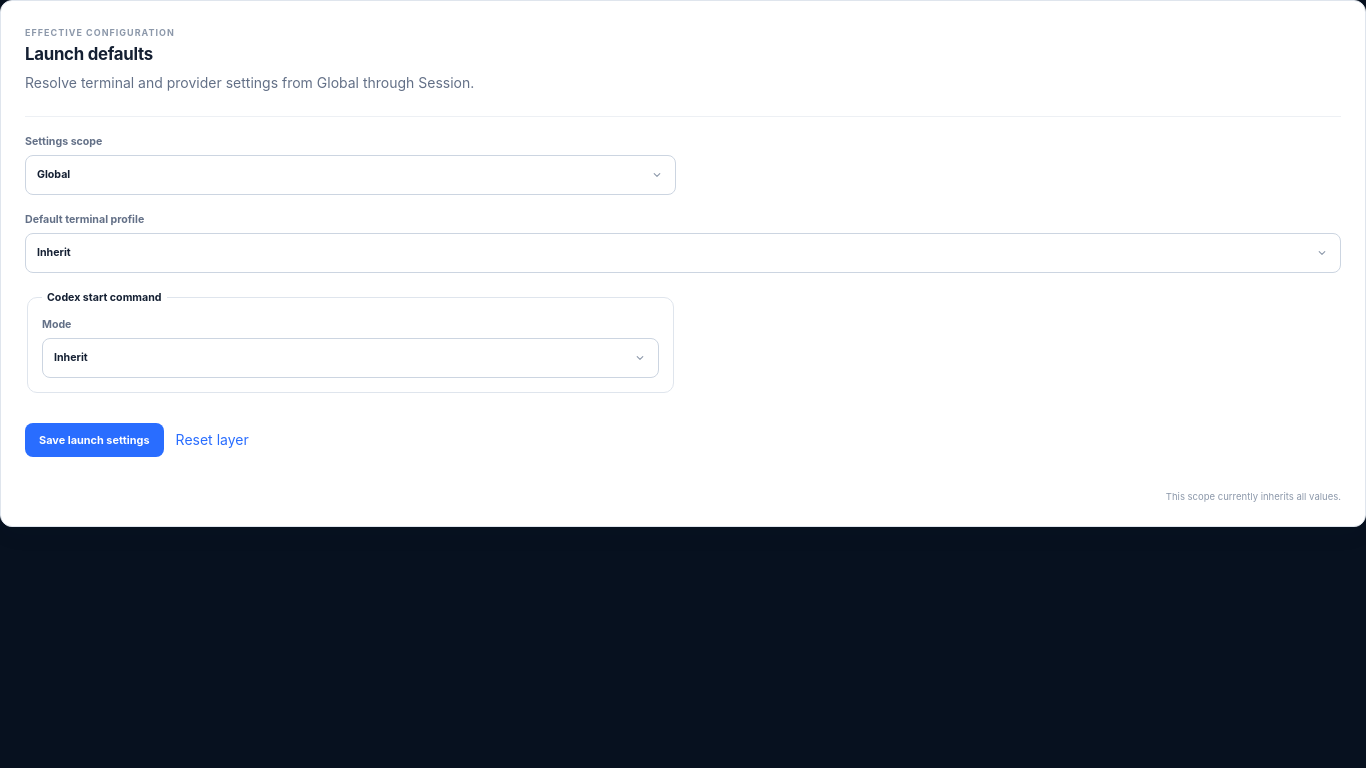
it: LaunchSettingsPanel › excludes disabled providers from provider targets and command settings
Expected: the heading "Launch defaults" is shown, [25,44,153,64]
Expected: the button with aria-label "Codex command mode" is shown, [42,338,659,378]
Click the button with aria-label "Settings scope" at point(54, 175), box [25,155,676,195]
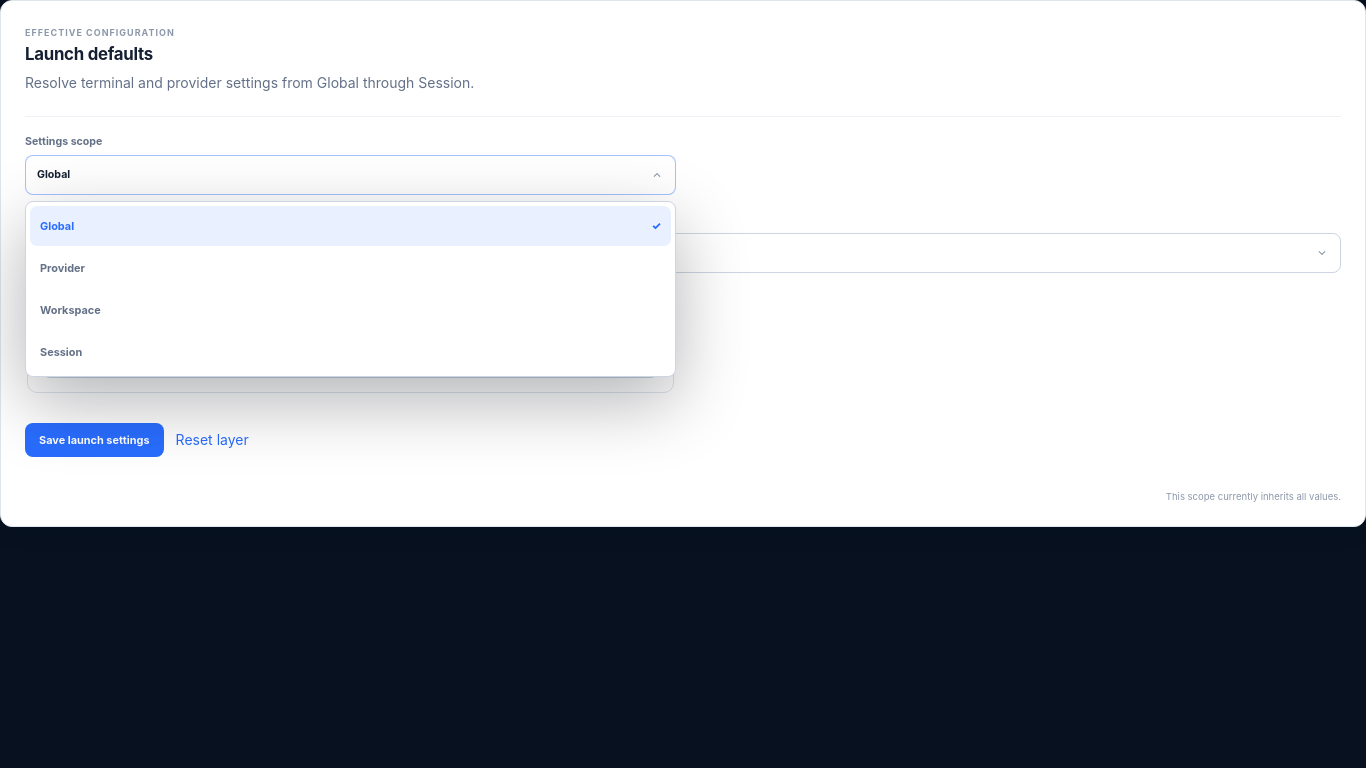
Click the option "Provider" at point(63, 268), box [30,248,671,288]
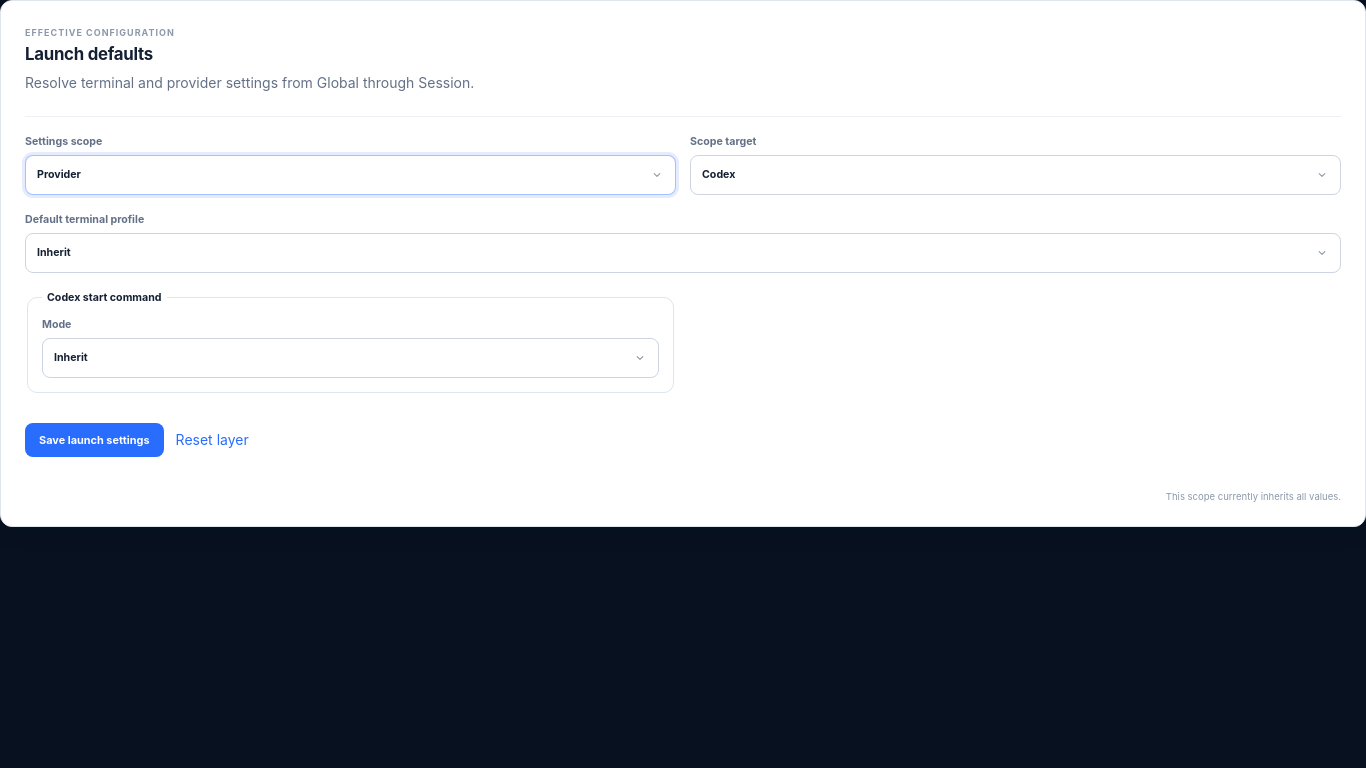
Click the button with aria-label "Scope target" at point(719, 175), box [690,155,1341,195]
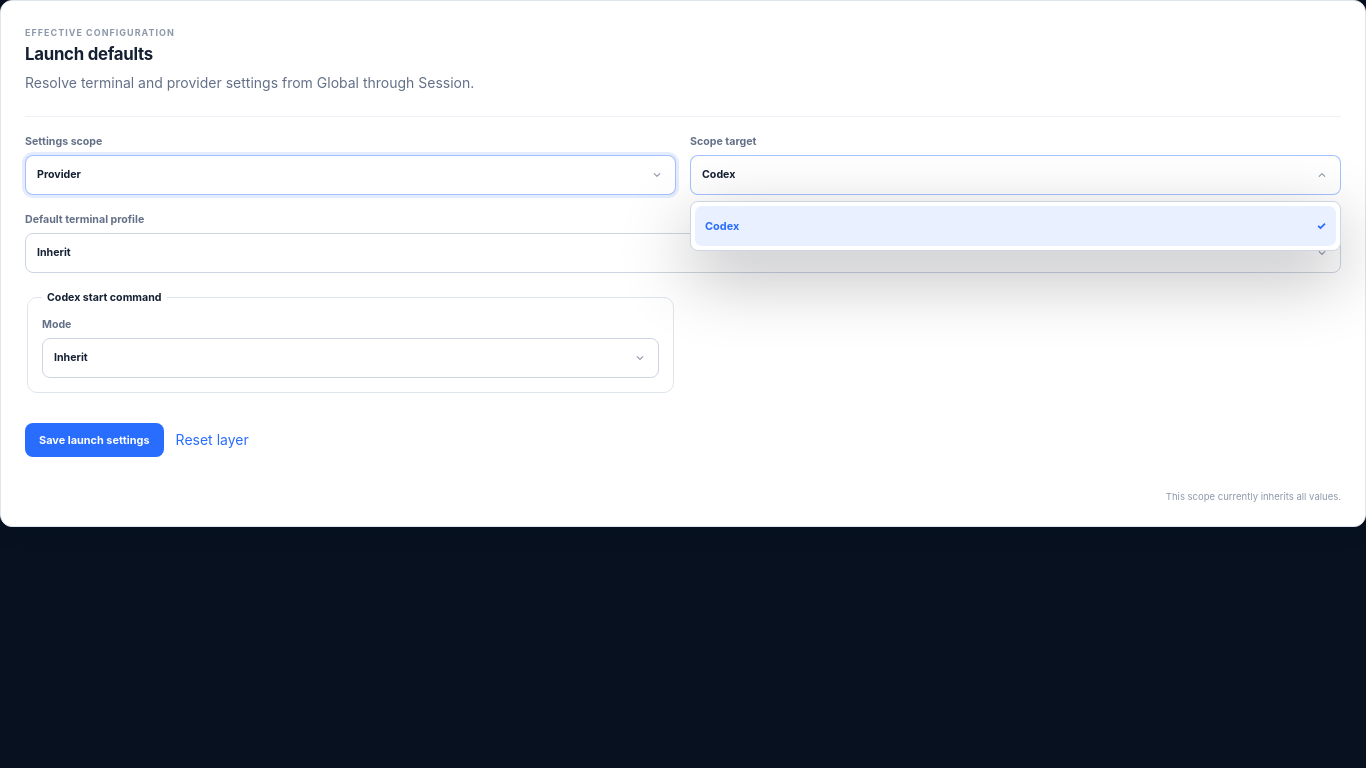
Expected: the option "Codex ✓" is shown, [695,206,1336,246]
